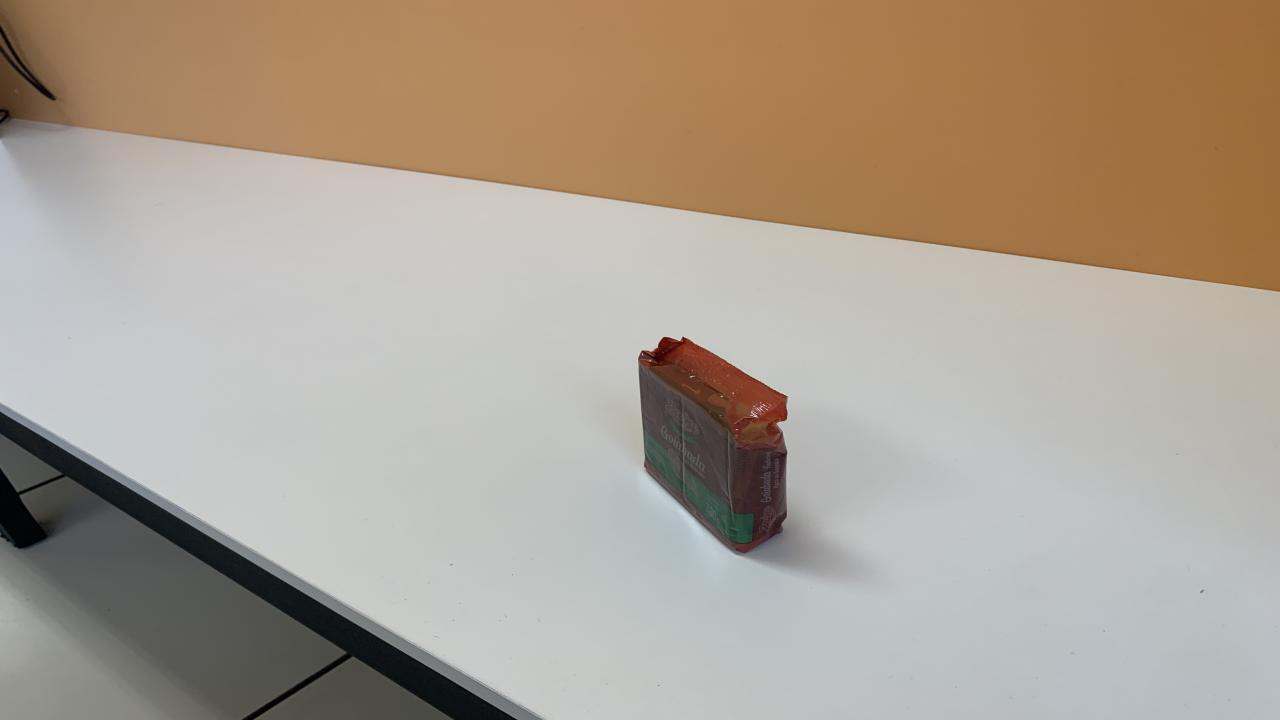Guava-Snacks: (638, 338, 788, 551)
